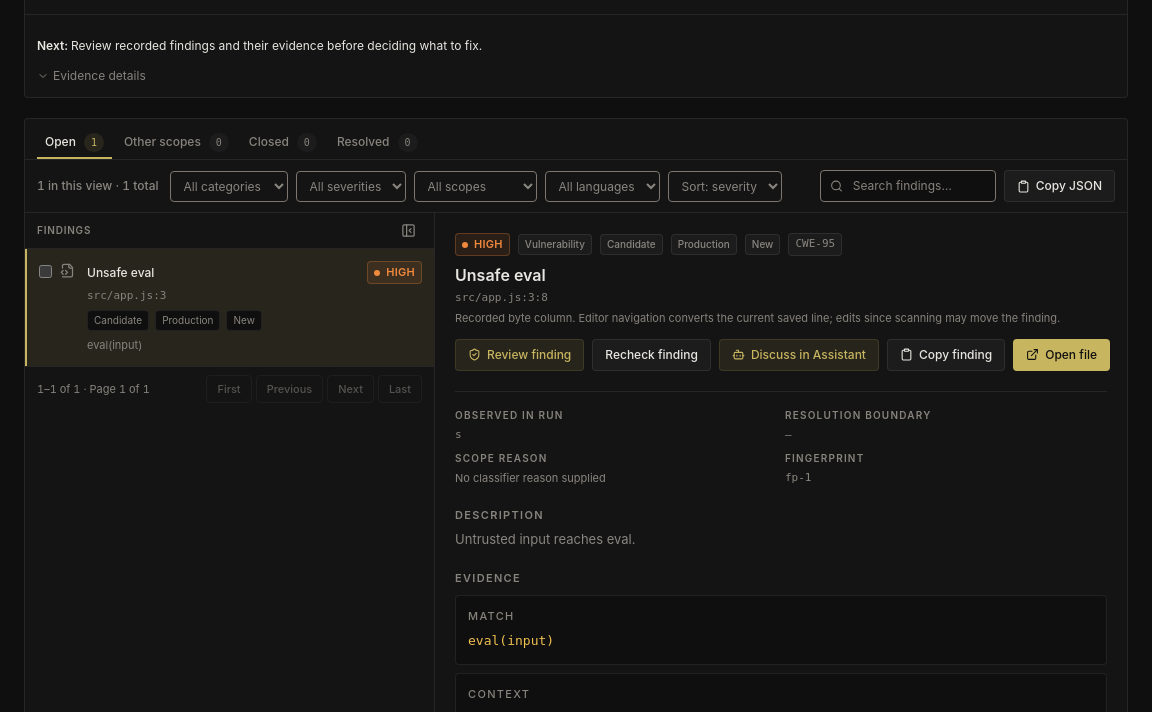
Test case: a late automatic metadata refresh keeps the open review editor and typed draft for the displayed run
(page scrolled)
Click the button "Review finding" at (520, 355), box [455,339,584,371]
(page scrolled)
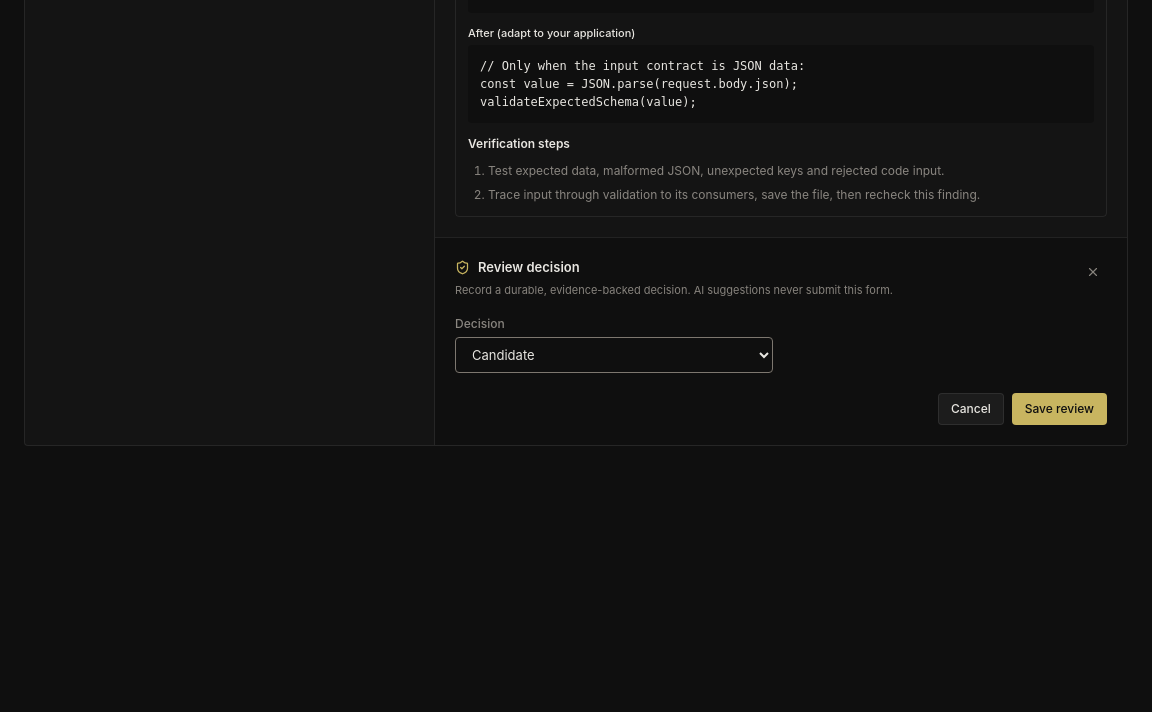
Select "Accepted risk" in the dropdown labelled "Decision" at (614, 355), box [455,337,773,373]
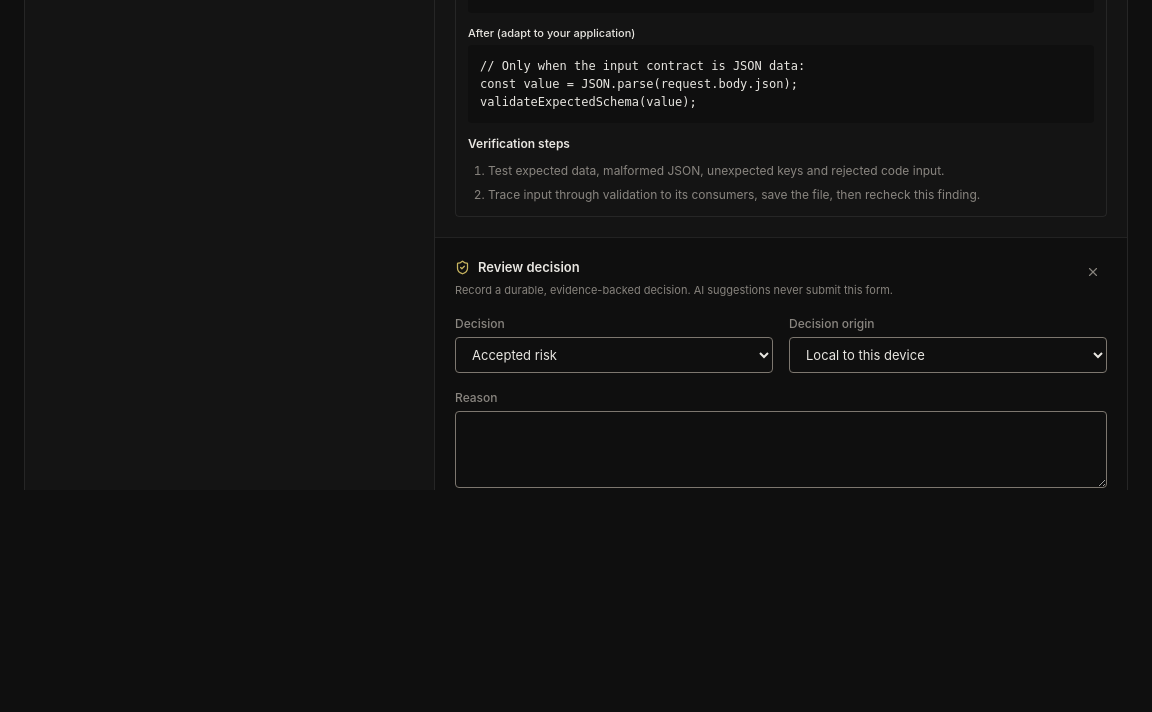
Type "Temporary business exception." into the text box labelled "Reason" at (781, 450), box [455,411,1107,488]
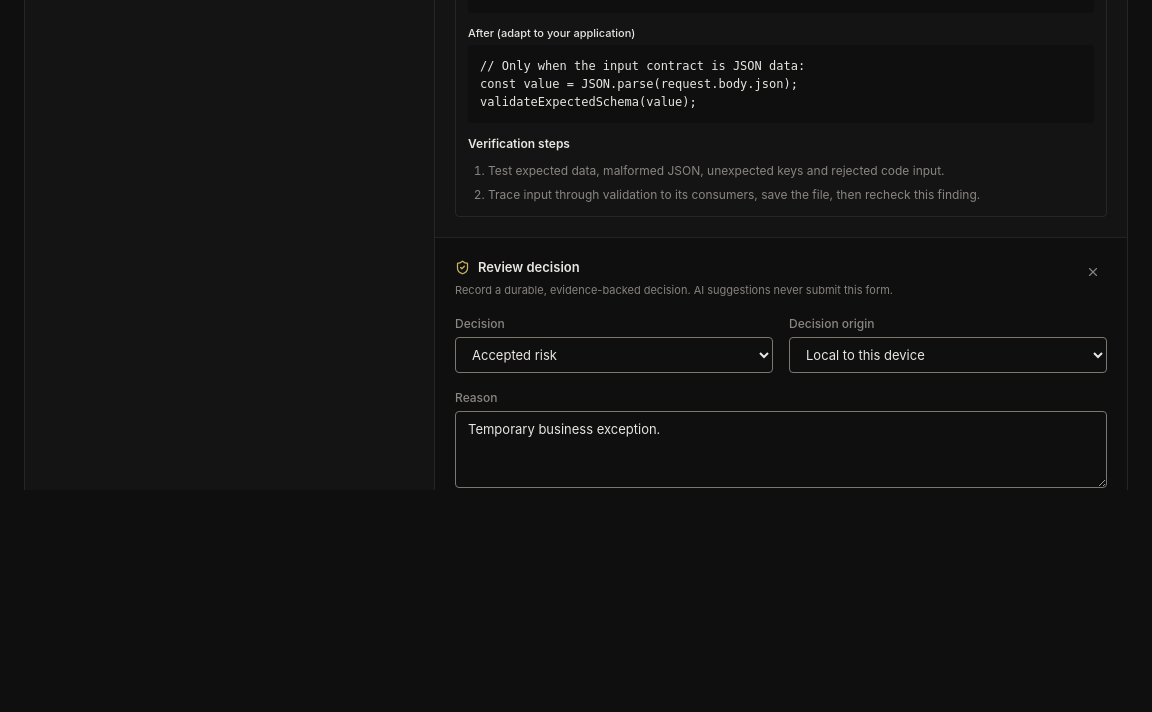
Replace the text in the text box labelled "Reason" with "Survives late hydration" at (781, 450), box [455,411,1107,488]
(page scrolled)
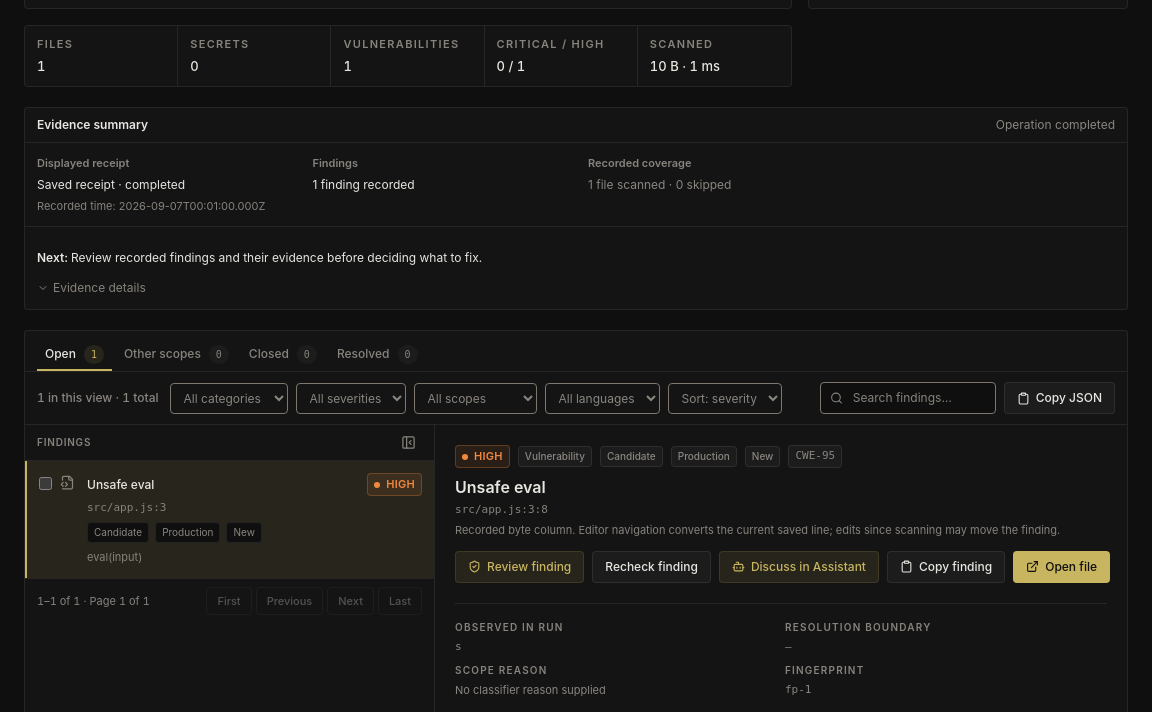
Expected: the tab "Open 1" is shown, [37,339,112,371]
